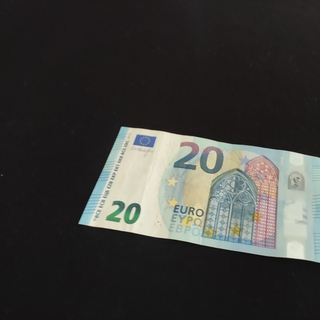20EUROFront: (78, 126, 320, 265)
